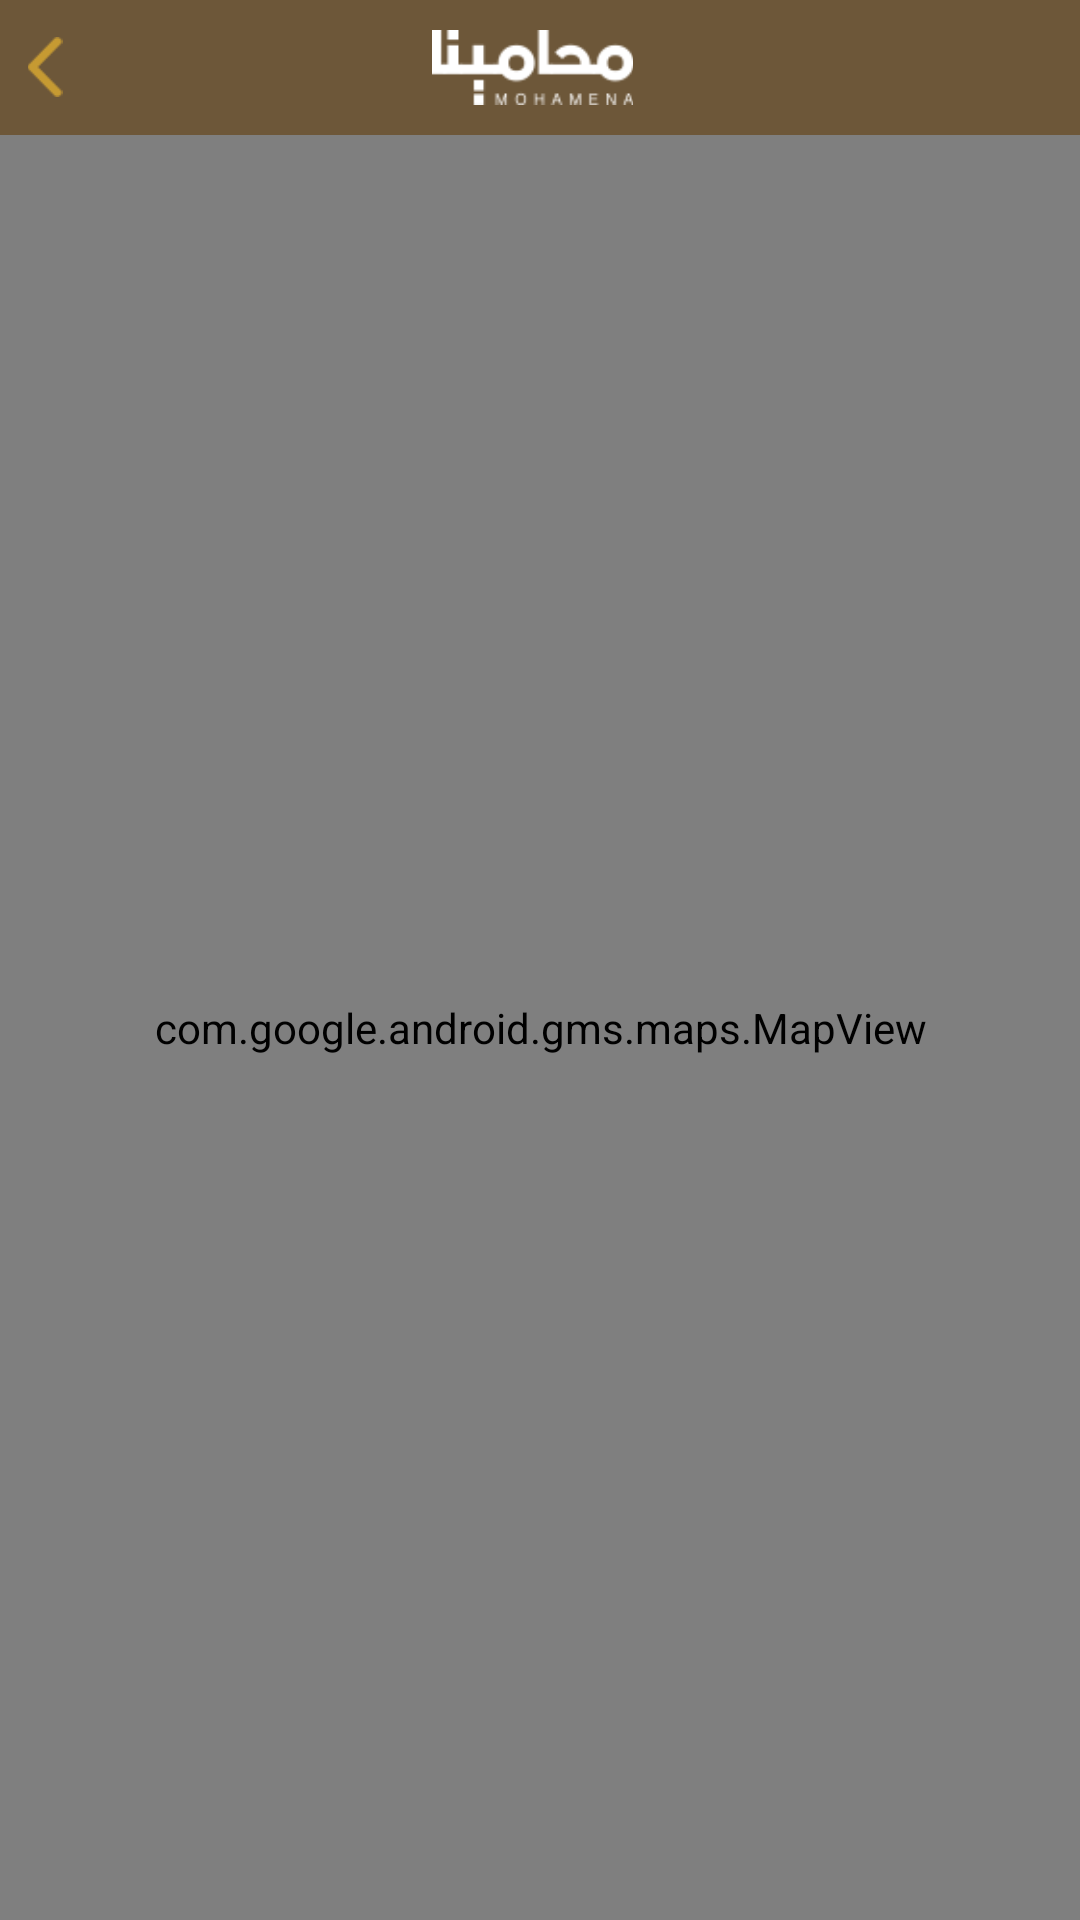

Where to tap for icons on this 1080w x 1920h app screen, as point (x, y):
back: point (45, 67)
